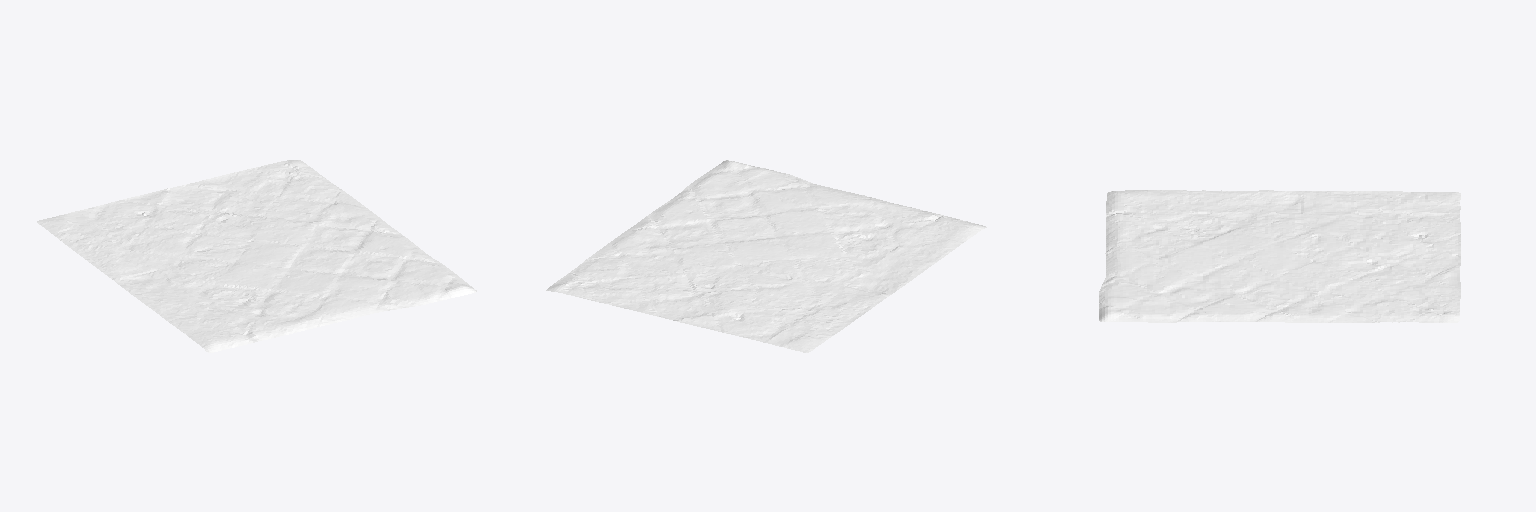
Rendered from terra_entrada.obj.
3 renders of one model, left to right at view 1: azimuth 30°, elevation 25°; view 2: azimuth 150°, elevation 25°; view 3: azimuth 270°, elevation 25°, orthographic.
Parts seen in each view (by area): view 1: terra_entrada_low_pla.001_terra_entrada_regard3d_Low.010; view 2: terra_entrada_low_pla.001_terra_entrada_regard3d_Low.010; view 3: terra_entrada_low_pla.001_terra_entrada_regard3d_Low.010.
Part boxes in pixels (x1,y1,x2,y2): terra_entrada_low_pla.001_terra_entrada_regard3d_Low.010: (37,160,476,352); terra_entrada_low_pla.001_terra_entrada_regard3d_Low.010: (546,160,986,352); terra_entrada_low_pla.001_terra_entrada_regard3d_Low.010: (1099,190,1460,322).
Size of the model in its own units: 1.51 by 0.0238 by 1.77.